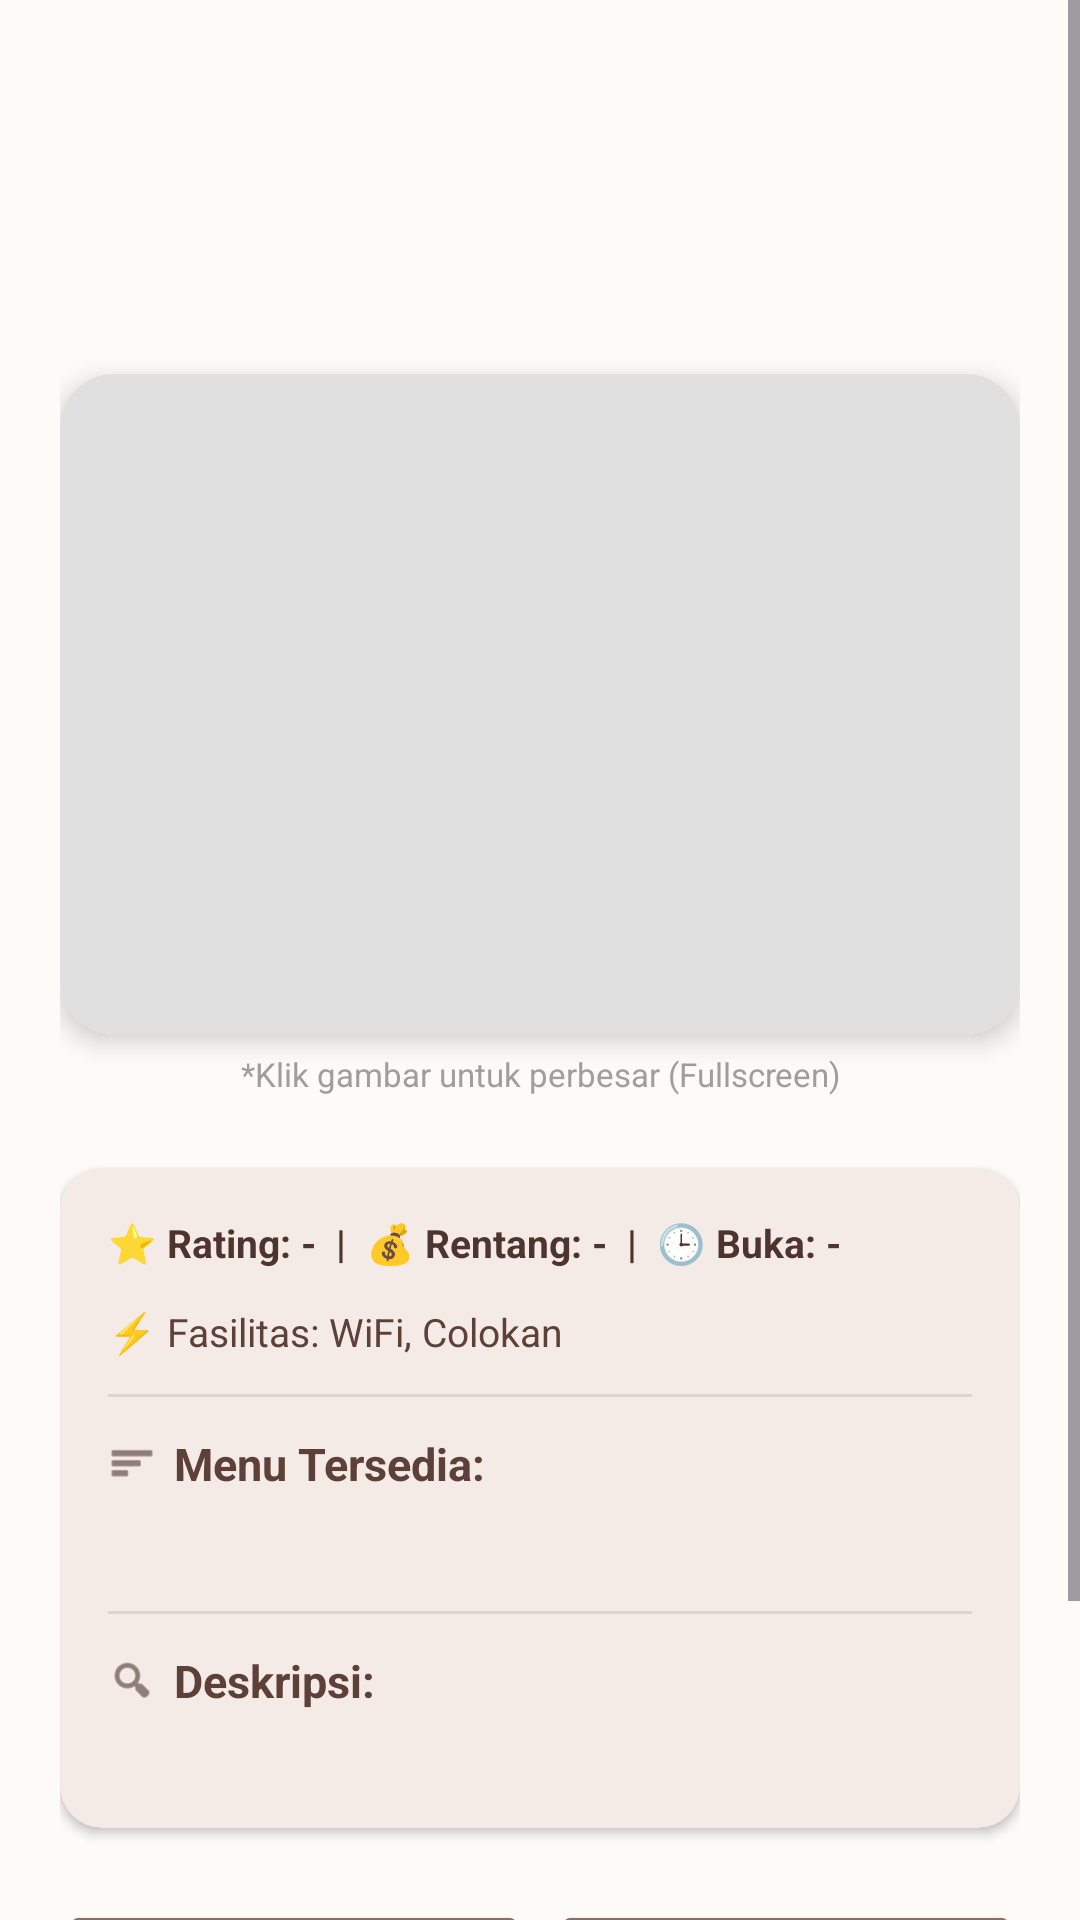

Where icons sit on this 1080px×1920px app screen, as (x1, y1, x2, y2):
search: (114, 1662, 150, 1698)
